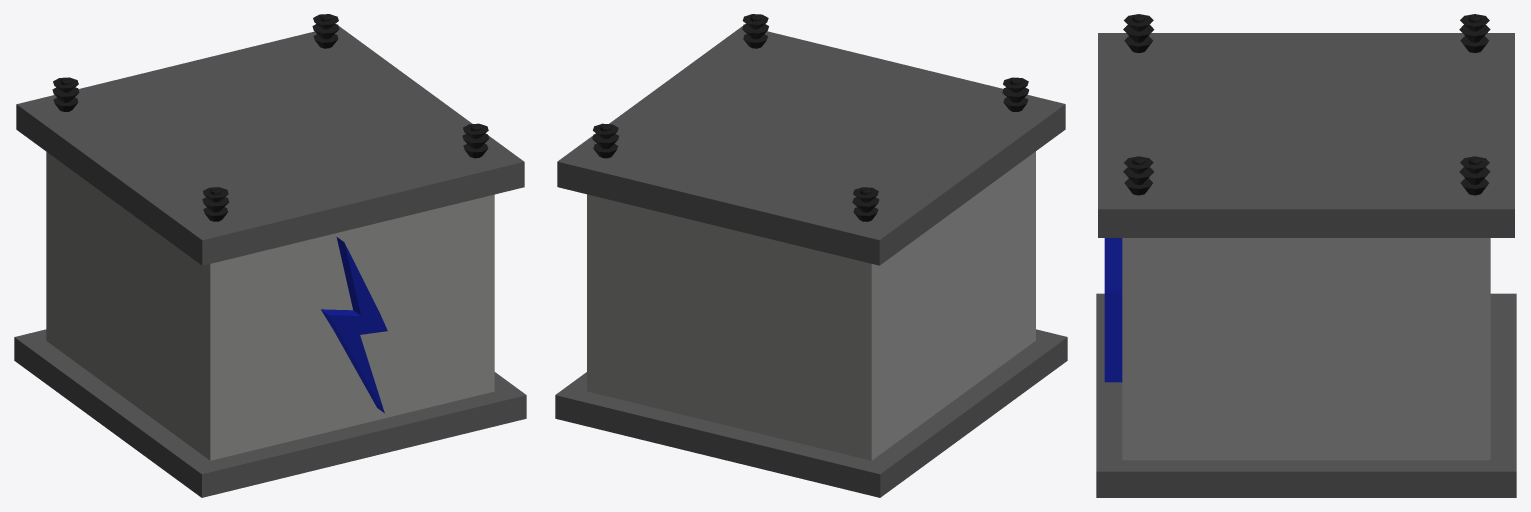
The model's file is EnergyBank.fbx.
3 views of the same model, side by side, from view 1: azimuth 30°, elevation 25°; view 2: azimuth 150°, elevation 25°; view 3: azimuth 270°, elevation 25° (orthographic). The views are drawn at different scales.
Visible parts, largest first — view 1: Plane, hydroelectric_lightning; view 2: Plane; view 3: Plane, hydroelectric_lightning.
Boxes of the visible parts, x1,y1,x2,y2 form: Plane: (14,14,526,497); hydroelectric_lightning: (321,237,387,413); Plane: (555,14,1067,497); Plane: (1096,14,1516,497); hydroelectric_lightning: (1104,238,1122,382).
Size of the model in its own units: 400 by 337 by 400.
